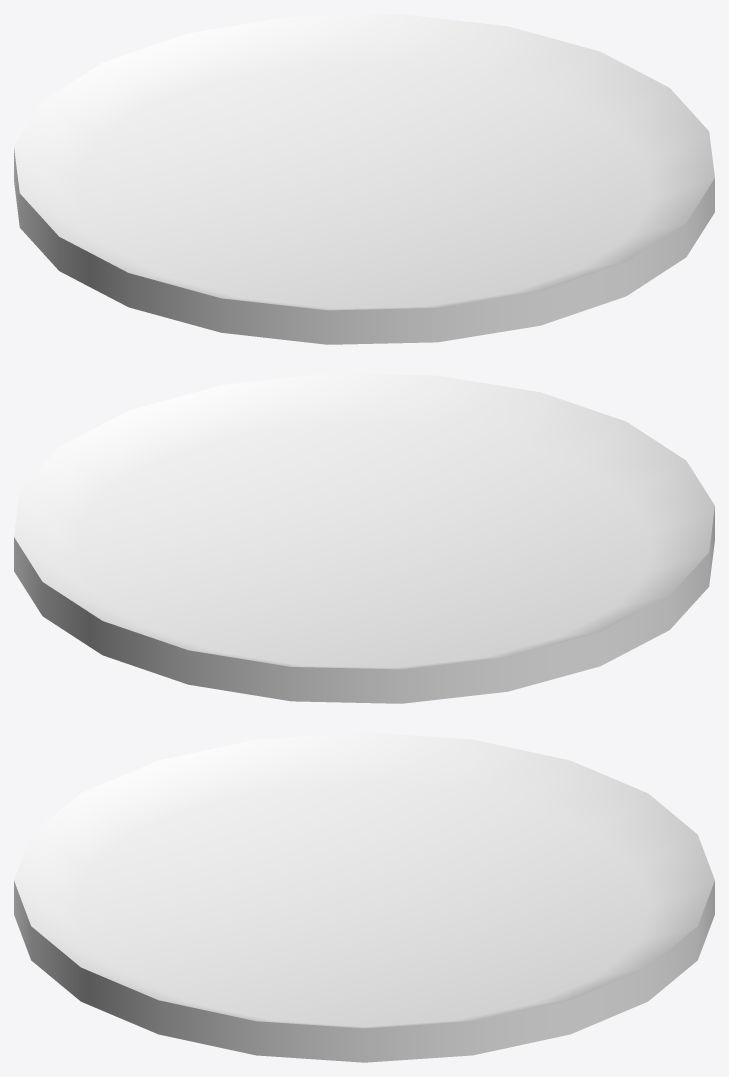
File: Plate.fbx
3 renders of one model, top to bottom at view 1: azimuth 30°, elevation 25°; view 2: azimuth 150°, elevation 25°; view 3: azimuth 270°, elevation 25°, orthographic.
Visible parts, largest first — view 1: Plate1; view 2: Plate1; view 3: Plate1.
Boxes of the visible parts, box(x1,y1,x2,y2) form: Plate1: box(14, 14, 714, 344); Plate1: box(14, 373, 714, 703); Plate1: box(14, 732, 714, 1062).
Size of the model in its own units: 0.3056 by 0.0165 by 0.3056.
